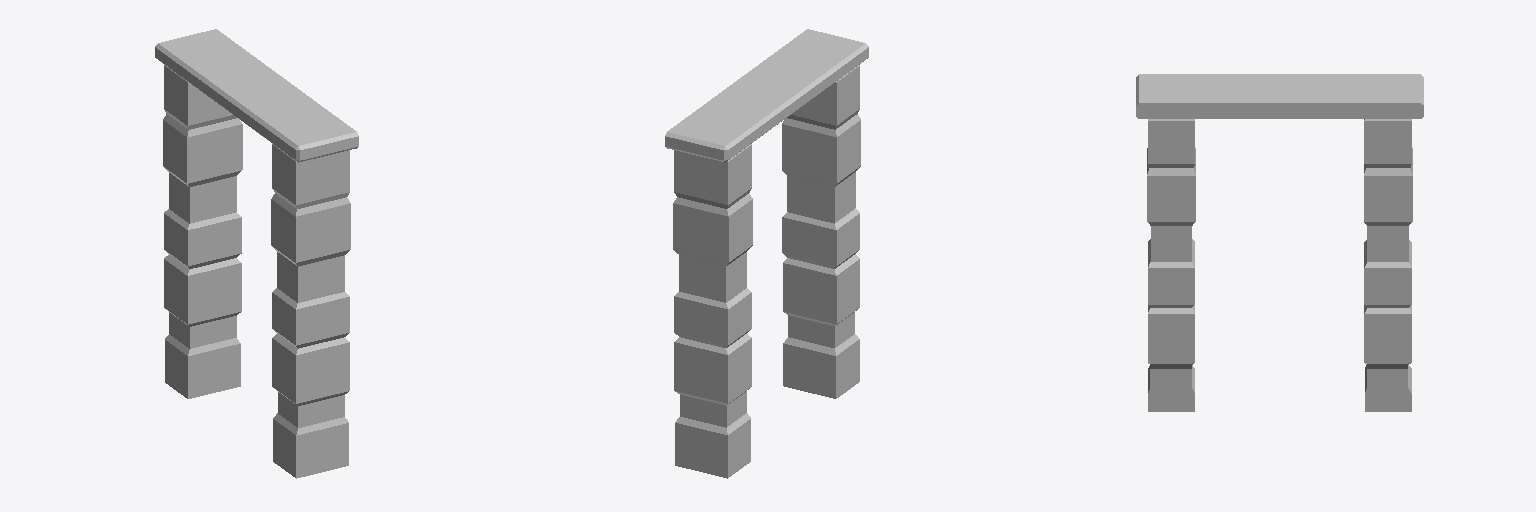
The picture shows the model from 3 angles: view 1: azimuth 30°, elevation 25°; view 2: azimuth 150°, elevation 25°; view 3: azimuth 270°, elevation 25°; orthographic projection.
Visible parts, largest first — view 1: SmallArch; view 2: SmallArch; view 3: SmallArch.
Boxes of the visible parts, x1=… form: SmallArch: x1=155, y1=29, x2=358, y2=478; SmallArch: x1=665, y1=29, x2=868, y2=478; SmallArch: x1=1136, y1=74, x2=1423, y2=411.
Bounding box in the file's own units: 2.25 × 11.77 × 9.14.